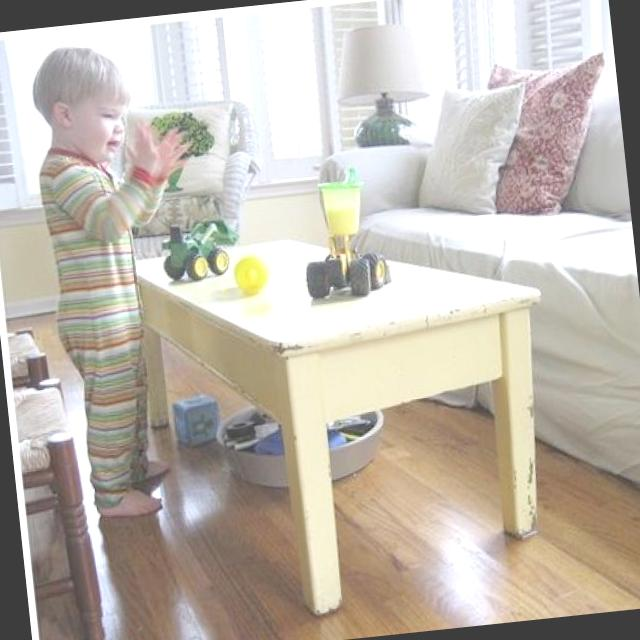no_vest: (18, 134, 171, 364)
